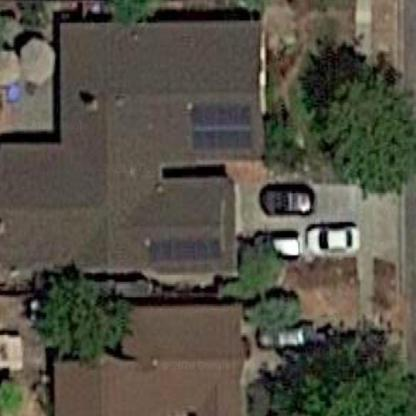car: (253, 177, 327, 219), (300, 221, 379, 258), (247, 318, 328, 354)
solar_panel: (178, 97, 266, 165), (134, 229, 231, 265)
